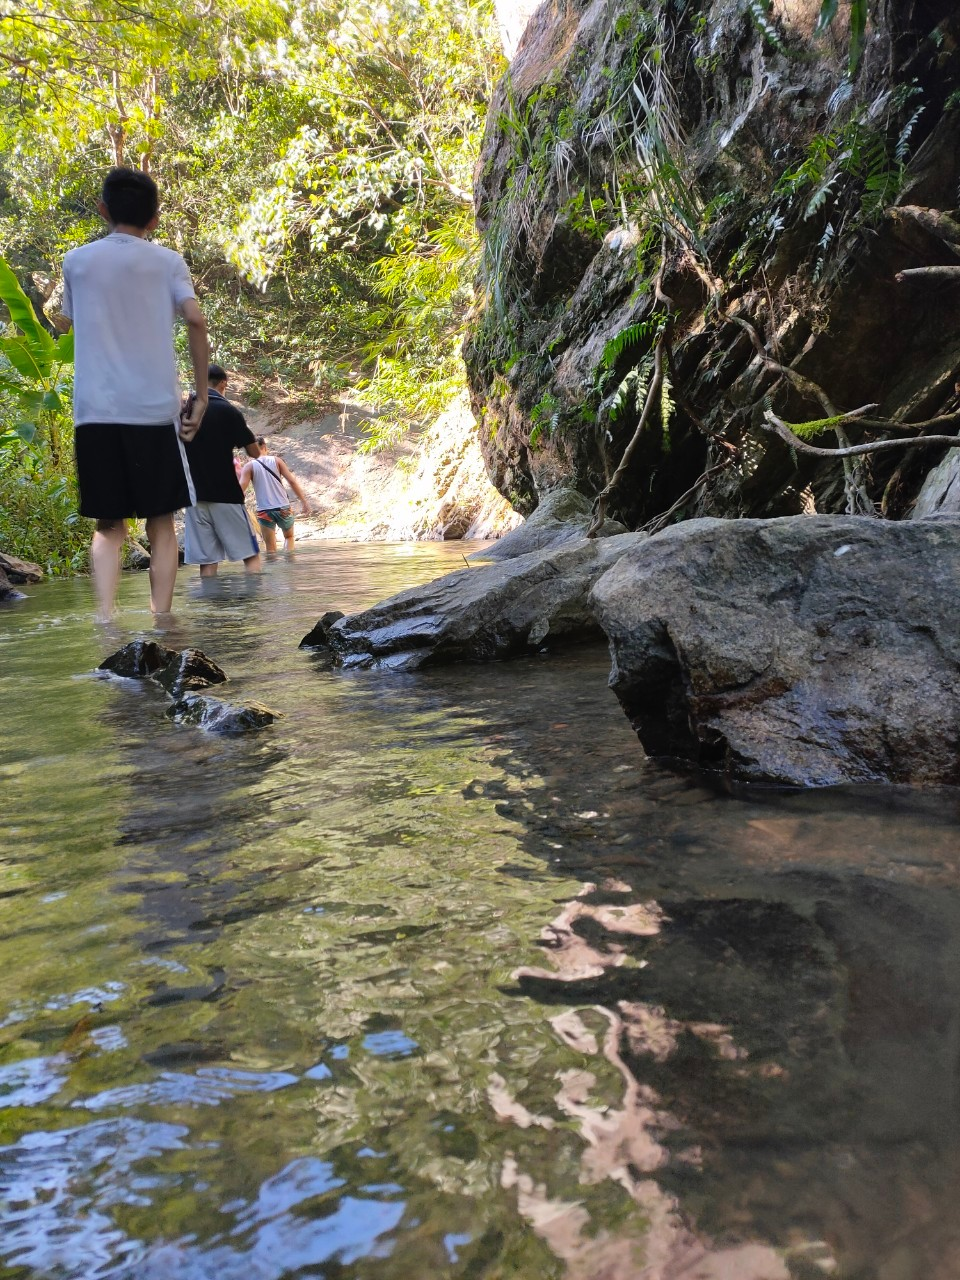people: (60, 172, 195, 653), (174, 359, 262, 598), (260, 451, 309, 568)
